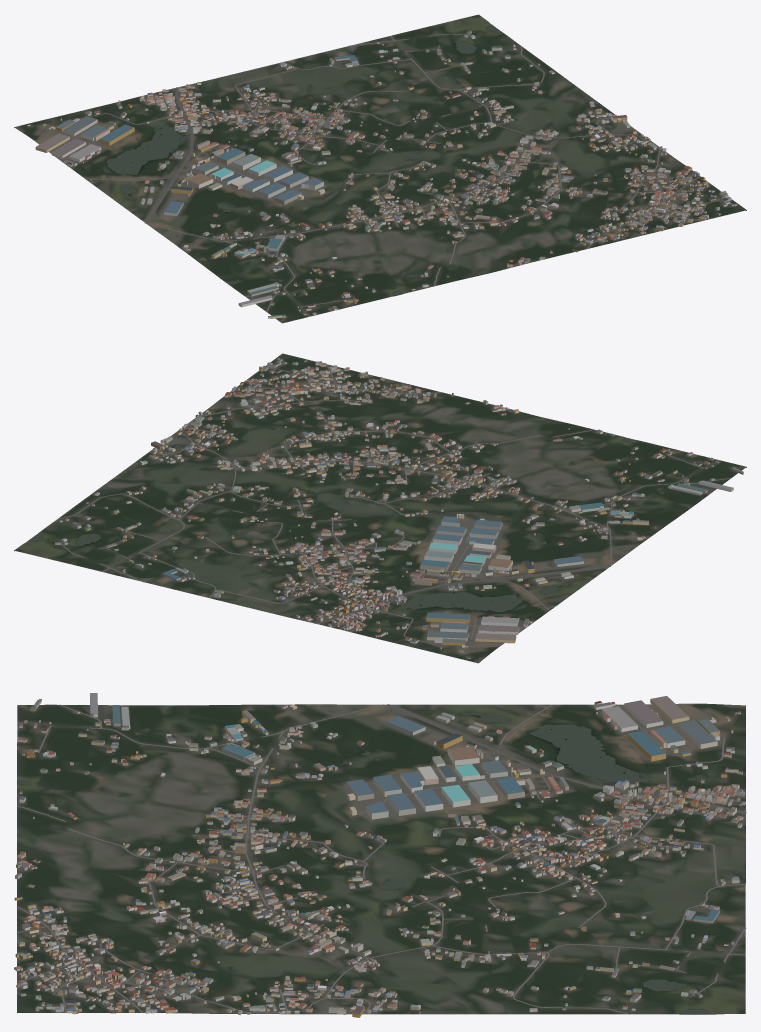
3 renders of one model, top to bottom at view 1: azimuth 30°, elevation 25°; view 2: azimuth 150°, elevation 25°; view 3: azimuth 270°, elevation 25°, orthographic. The views are drawn at different scales.
Visible parts, largest first — view 1: ground, buildings, roads, water; view 2: ground, buildings, roads, water; view 3: ground, buildings, roads, water.
Boxes of the visible parts, x1,y1,x2,y2 form: ground: [14, 14, 746, 323]; buildings: [27, 30, 737, 318]; roads: [28, 34, 720, 316]; water: [106, 24, 501, 295]; ground: [14, 353, 746, 663]; buildings: [55, 358, 743, 658]; roads: [57, 364, 731, 657]; water: [27, 438, 632, 622]; ground: [17, 703, 745, 1014]; buildings: [14, 693, 745, 1017]; roads: [16, 704, 746, 1014]; water: [17, 709, 710, 1013].
Size of the model in its own units: 1459 by 20.22 by 1410.
